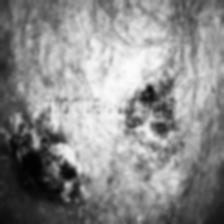Potentially Malignant Skin Tumors: (4, 114, 86, 204), (125, 76, 181, 172)
